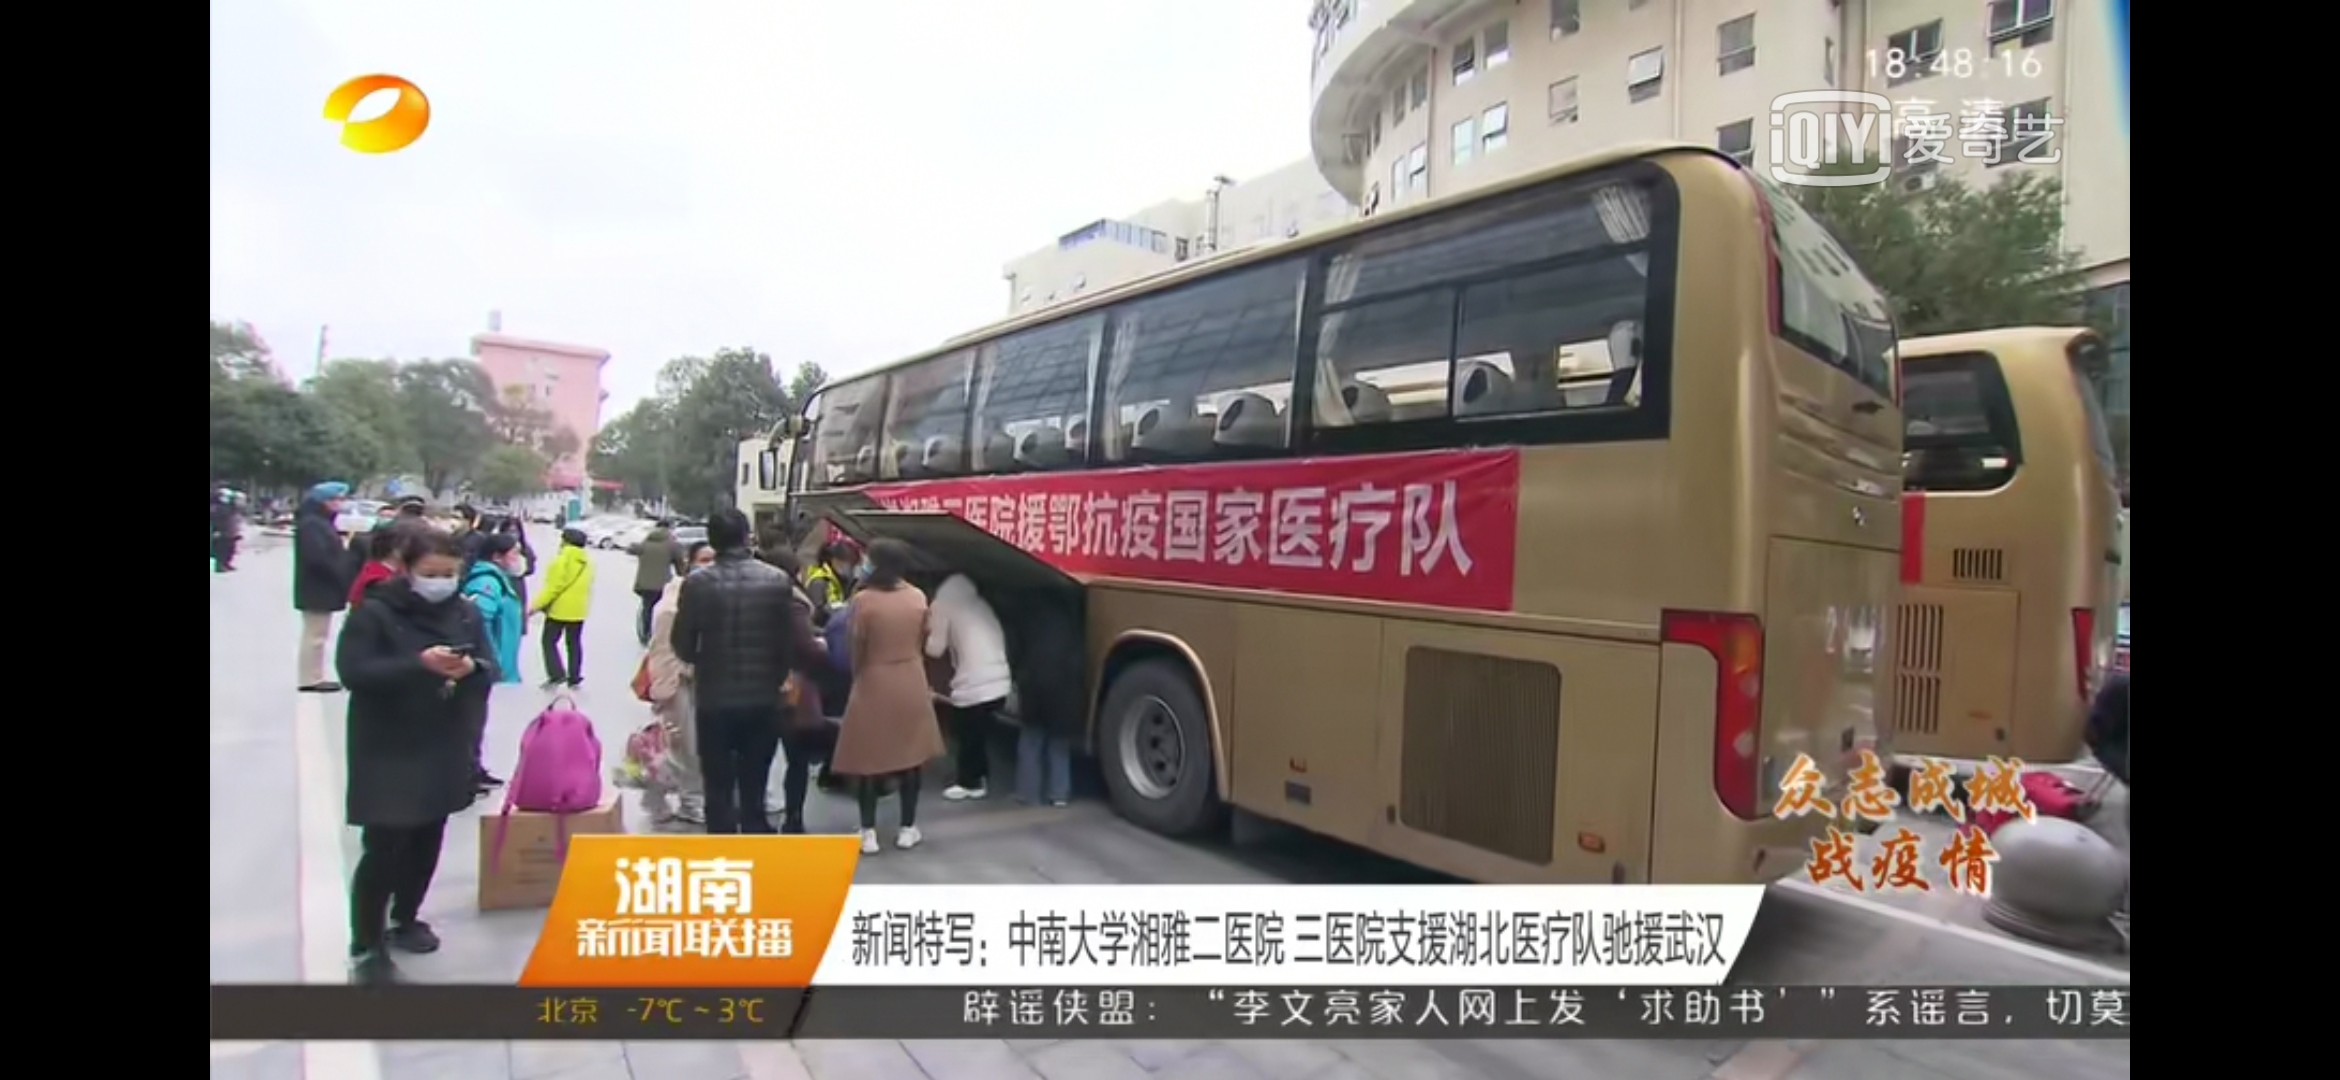correctlyWear: (403, 552, 463, 606), (498, 544, 528, 577)
